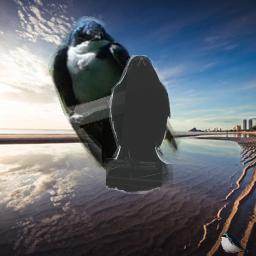Crow: (106, 55, 173, 194)
Swallow: (48, 16, 183, 178), (219, 232, 251, 253)
